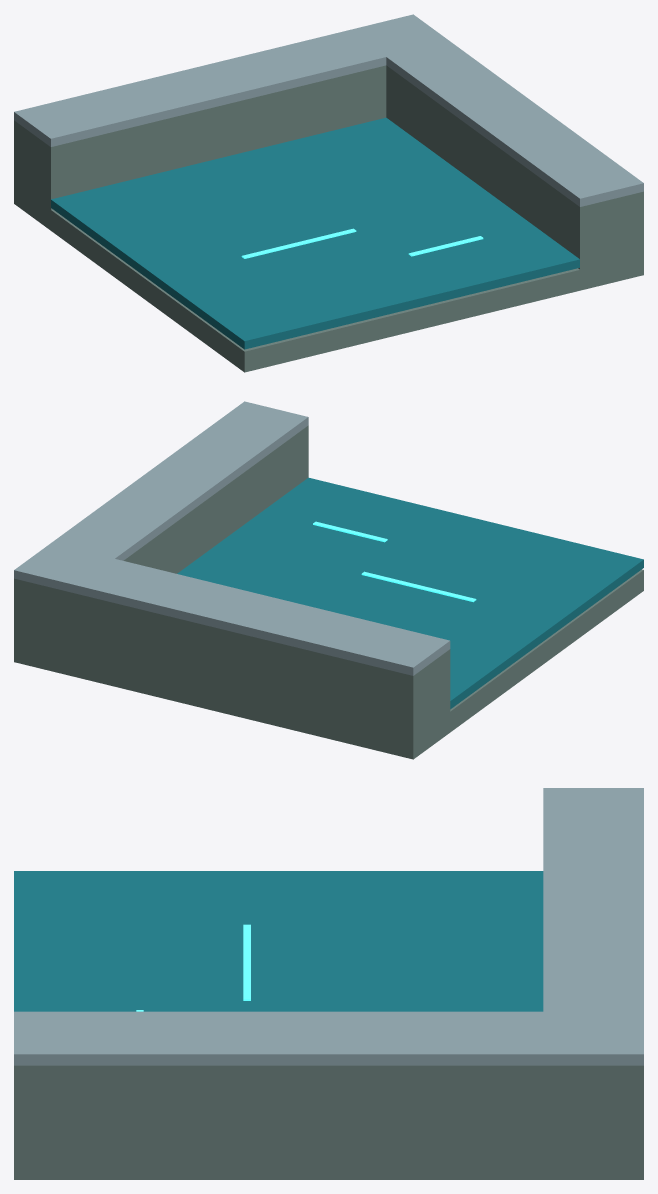
Rendered from water_corner.glb.
3 views of the same model, one above another, from view 1: azimuth 30°, elevation 25°; view 2: azimuth 150°, elevation 25°; view 3: azimuth 270°, elevation 25° (orthographic). The views are drawn at different scales.
Visible parts, largest first — view 1: Water, Bank, BankCap.001, BankCap, Bank.001, Bed, WaterRipple; view 2: Water, Bank, BankCap.001, BankCap, Bank.001, Bed, WaterRipple; view 3: Water, Bank.001, BankCap.001, BankCap, Bed, WaterRipple.
Part boxes in pixels (x1,y1,x2,y2): Water: (51, 117, 579, 349); Bank: (14, 65, 386, 211); BankCap.001: (350, 14, 643, 206); BankCap: (14, 30, 386, 146); Bank.001: (386, 65, 643, 289); Bed: (14, 183, 643, 372); WaterRipple: (241, 228, 356, 258); Water: (177, 477, 643, 709); Bank: (78, 594, 450, 759); BankCap.001: (14, 401, 308, 593); BankCap: (78, 559, 450, 675); Bank.001: (14, 425, 308, 677); Bed: (14, 569, 643, 759); WaterRipple: (361, 571, 476, 602); Water: (14, 871, 543, 1011); Bank.001: (14, 1065, 643, 1179); BankCap.001: (14, 1011, 643, 1065); BankCap: (543, 788, 643, 1011); Bed: (14, 1151, 643, 1179); WaterRipple: (243, 924, 250, 1000).
Size of the model in its own units: 2 by 0.44 by 2.
